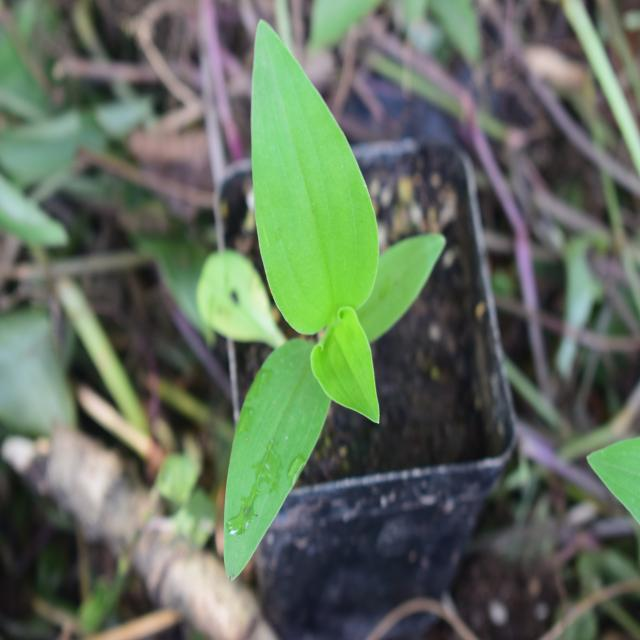Common Dayflower: (195, 25, 402, 529)
